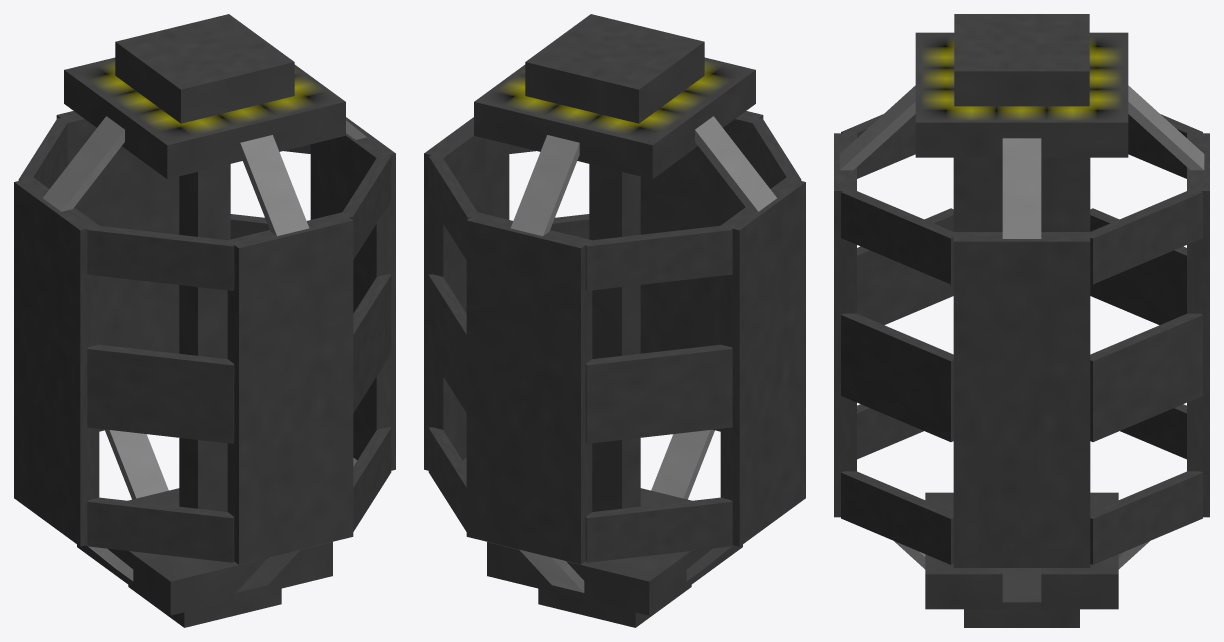
Rendered from turbineSmallOptimized.obj.
3 views of the same model, side by side, from view 1: azimuth 30°, elevation 25°; view 2: azimuth 150°, elevation 25°; view 3: azimuth 270°, elevation 25° (orthographic). The views are drawn at different scales.
Parts seen in each view (by area): view 1: octagon, cube; view 2: octagon, cube; view 3: octagon, cube.
Boxes of the visible parts, x1,y1,x2,y2 form: octagon: [14, 111, 395, 564]; cube: [43, 14, 366, 627]; octagon: [424, 111, 805, 564]; cube: [453, 14, 776, 627]; octagon: [834, 114, 1209, 567]; cube: [839, 14, 1204, 627].
Bounding box in the file's own units: 9.72 × 16 × 9.72.
